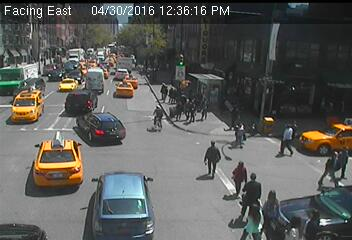neg: (58, 119, 93, 165), (243, 36, 274, 77), (57, 60, 86, 99), (25, 165, 52, 202), (132, 149, 157, 181), (145, 102, 169, 135), (293, 56, 316, 87), (116, 33, 137, 61), (99, 185, 118, 210)
pos: (258, 190, 290, 232), (192, 136, 223, 178), (273, 121, 304, 161), (315, 148, 343, 186), (228, 155, 255, 190), (241, 174, 265, 206), (242, 201, 266, 233), (305, 204, 328, 235), (230, 121, 249, 146), (156, 78, 172, 100), (289, 215, 303, 233)
